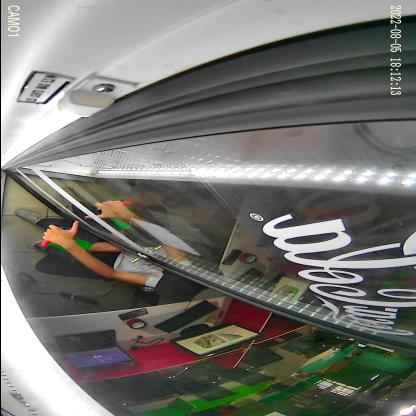green: (41, 227, 97, 265)
red: (38, 226, 67, 250)
